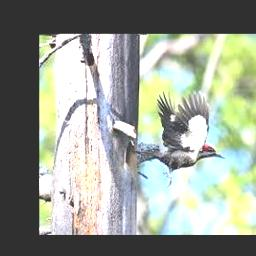Woodpecker: (132, 90, 226, 187)
